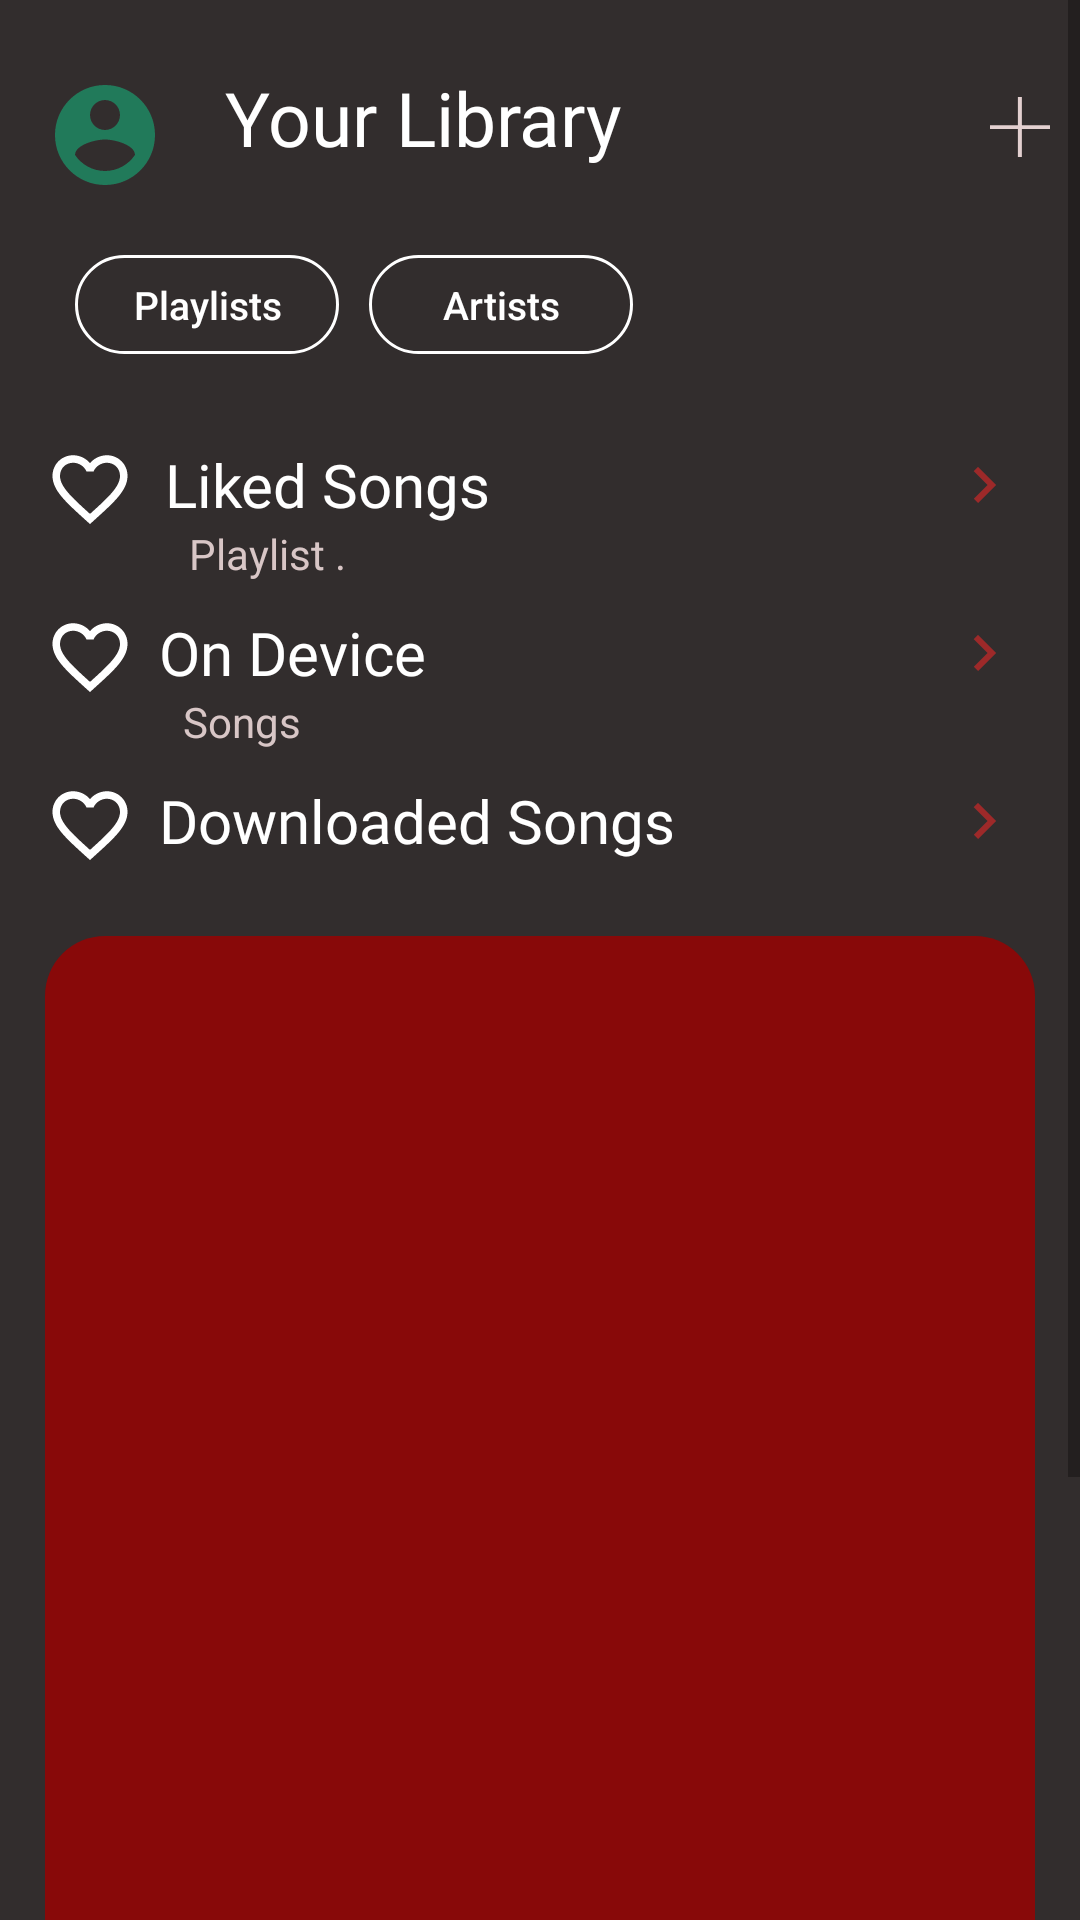

Named icons in this screenshot (1080 x 1920) and their centers, point (x, y):
account circle: point (105, 135)
favorite border: point (90, 489), point (90, 657), point (90, 825)
keyboard arrow right: point (985, 485), point (985, 653), point (985, 821)
plus symbol: point (1020, 127)
